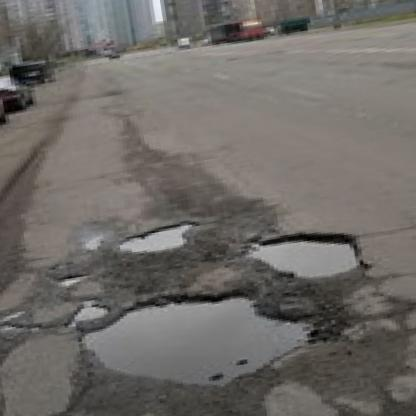pothole: (78, 275, 328, 405), (247, 217, 377, 291), (114, 220, 199, 260), (65, 298, 109, 327), (57, 273, 85, 290)
